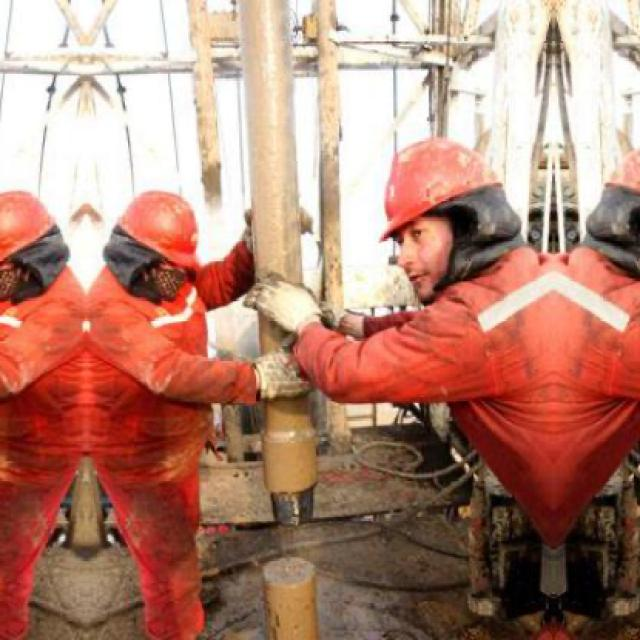con casco: (359, 128, 549, 304), (121, 187, 271, 320), (0, 185, 104, 313)
